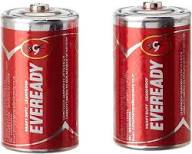battery: (0, 2, 192, 149)
